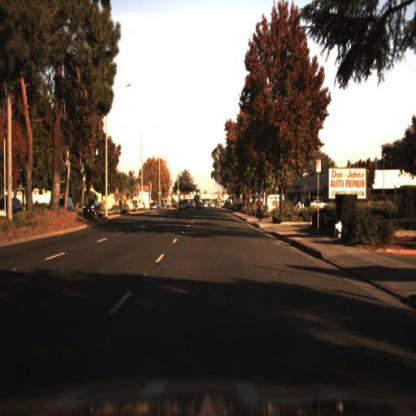car: (82, 198, 103, 222), (83, 197, 104, 220), (255, 195, 265, 225), (306, 197, 326, 211), (178, 198, 191, 214), (193, 199, 204, 217), (150, 201, 160, 218)
pedestrian: (256, 197, 264, 227)
